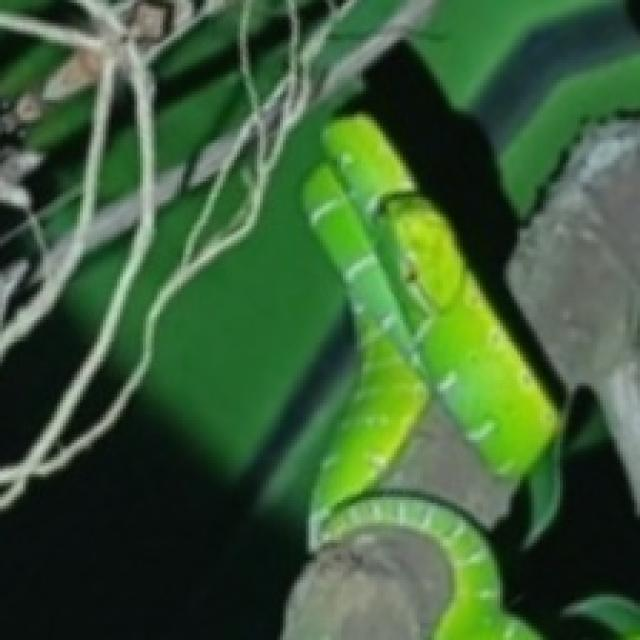north ph temple pitviper: (283, 114, 560, 637)
